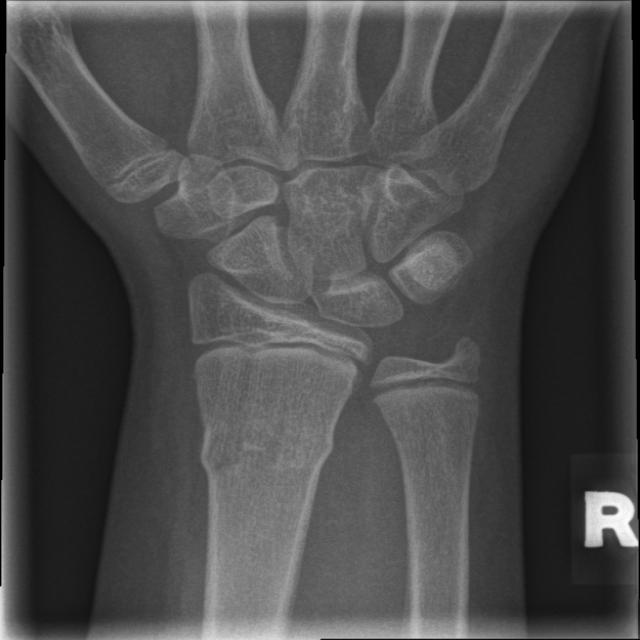radius fracture: (182, 398, 354, 607)
